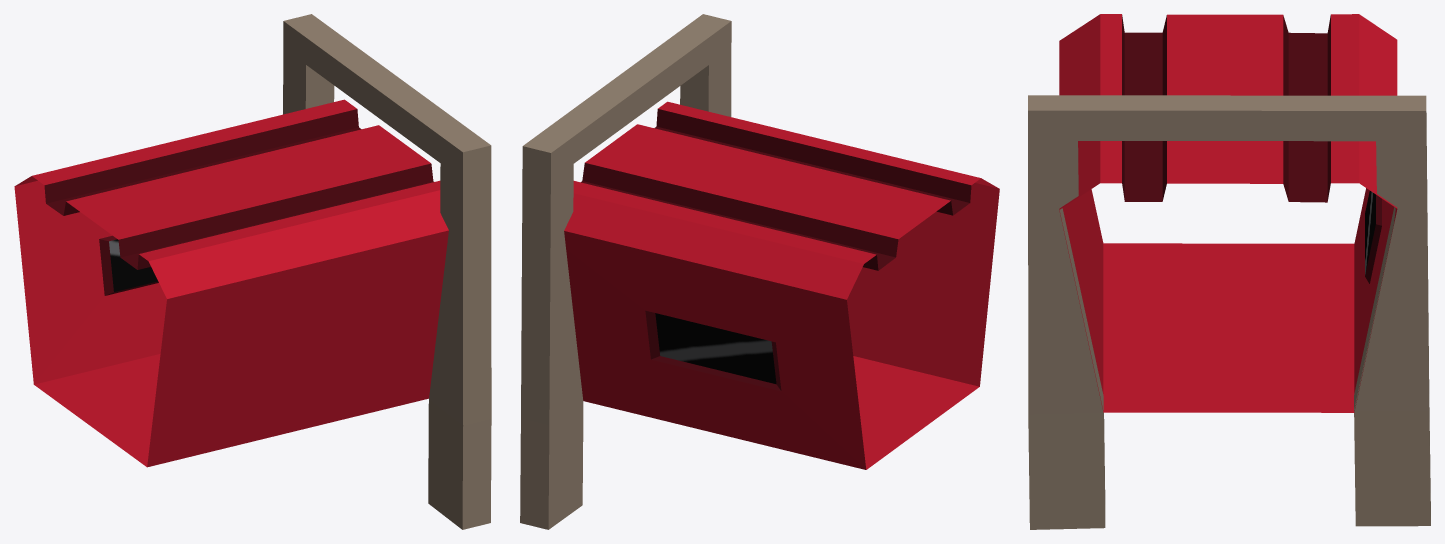
The model's file is house_mid.fbx.
3 renders of one model, left to right at view 1: azimuth 30°, elevation 25°; view 2: azimuth 150°, elevation 25°; view 3: azimuth 270°, elevation 25°, orthographic. The views are drawn at different scales.
Visible parts, largest first — view 1: Plane.002; view 2: Plane.002; view 3: Plane.002.
Part boxes in pixels (x1,y1,x2,y2): Plane.002: (14, 14, 491, 529); Plane.002: (520, 14, 999, 529); Plane.002: (1028, 14, 1430, 529).
Bounding box in the file's own units: 941 × 1088 × 947.
